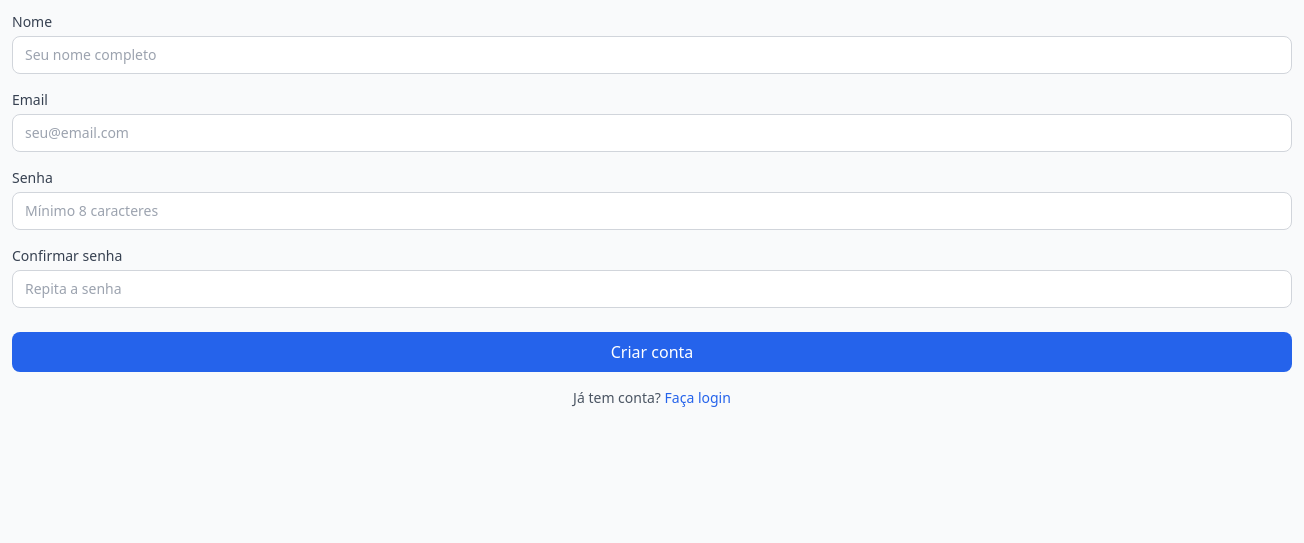
Test case: RegisterForm › deve exibir "Email já cadastrado" para erro CONFLICT
Type "João" into the field labelled "Nome" at (652, 55), box [12, 36, 1292, 74]
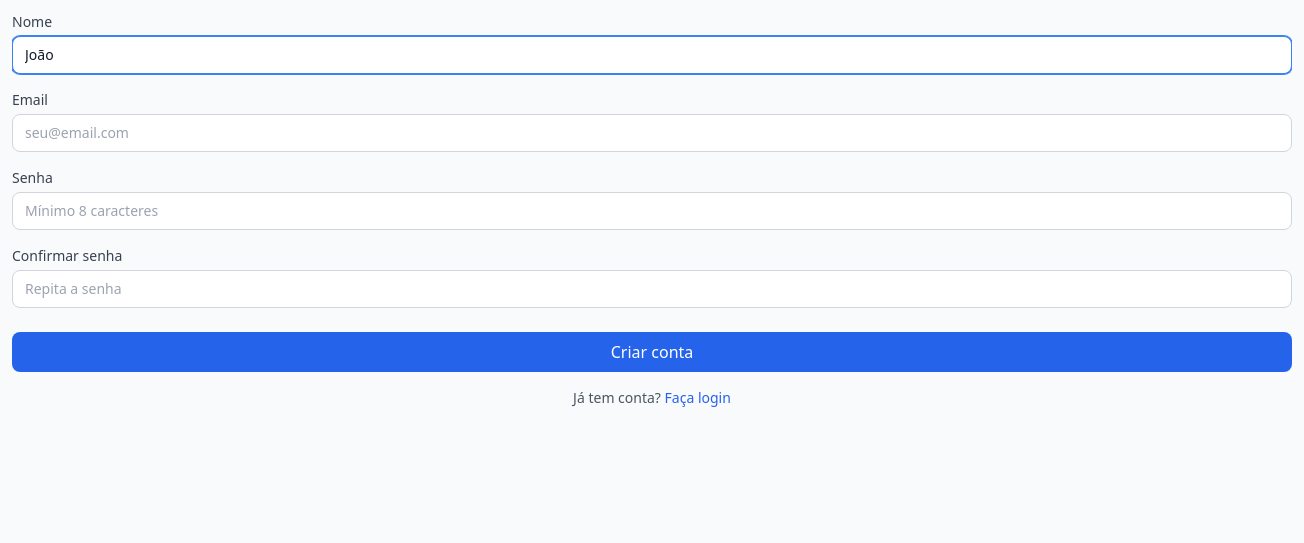
Type "existing@test.com" into the field labelled "Email" at (652, 133), box [12, 114, 1292, 152]
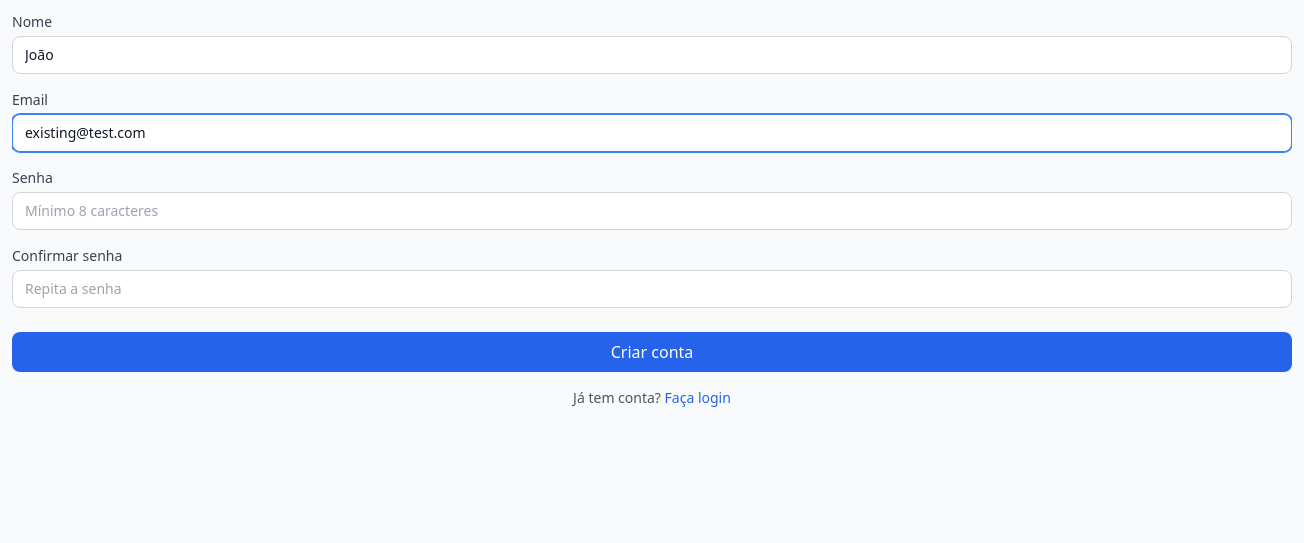
Type "12345678" into the password field labelled "Senha" at (652, 211), box [12, 192, 1292, 230]
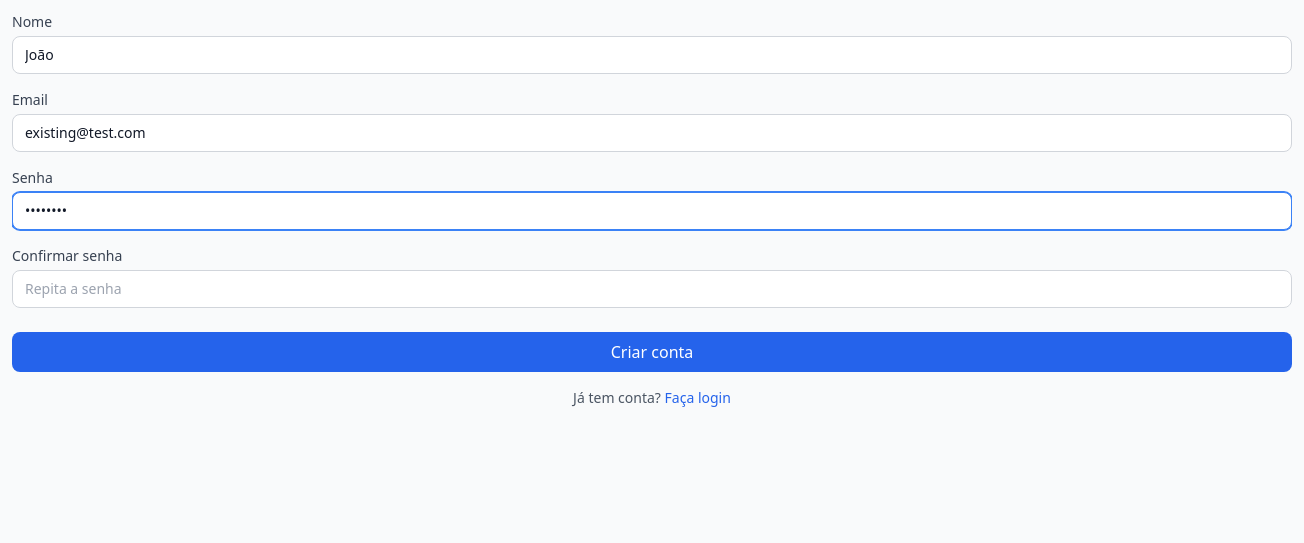
Type "12345678" into the password field labelled "Confirmar senha" at (652, 289), box [12, 270, 1292, 308]
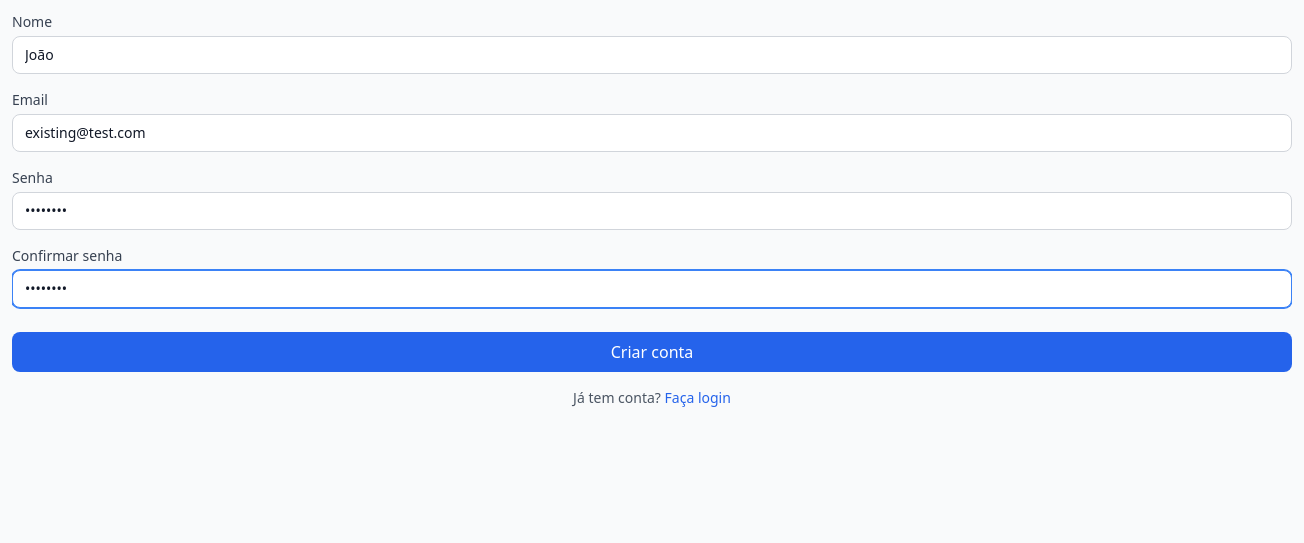
Click the button "Criar conta" at (652, 352), box [12, 332, 1292, 372]
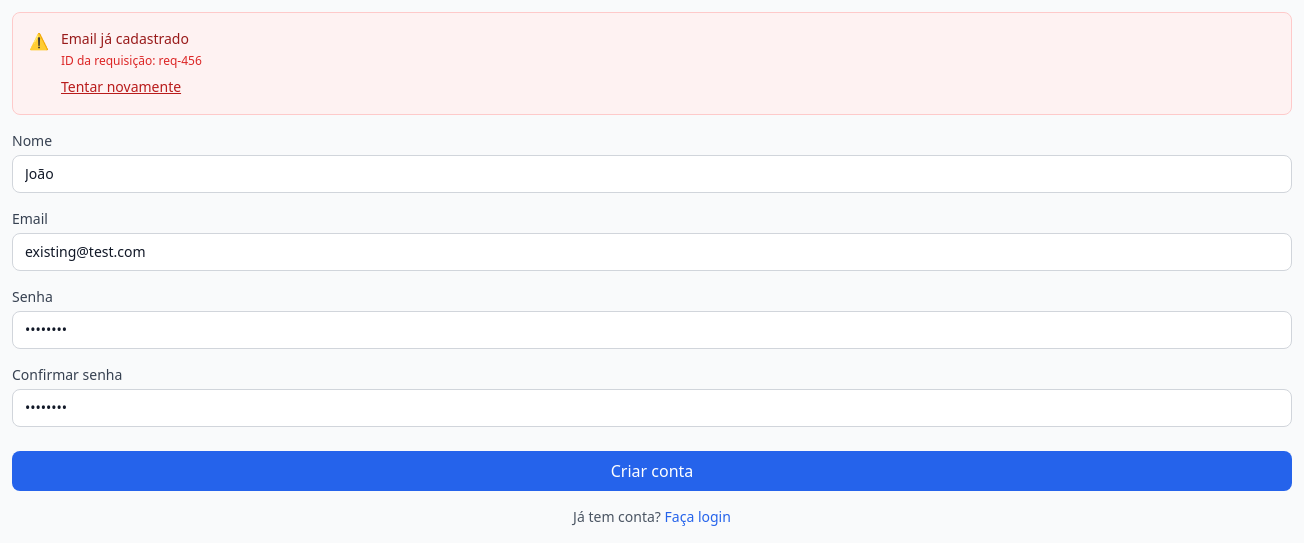
Check: the text "Email já cadastrado" is shown, box [61, 29, 189, 48]
Check: the text "ID da requisição: req-456" is shown, box [61, 52, 202, 69]
